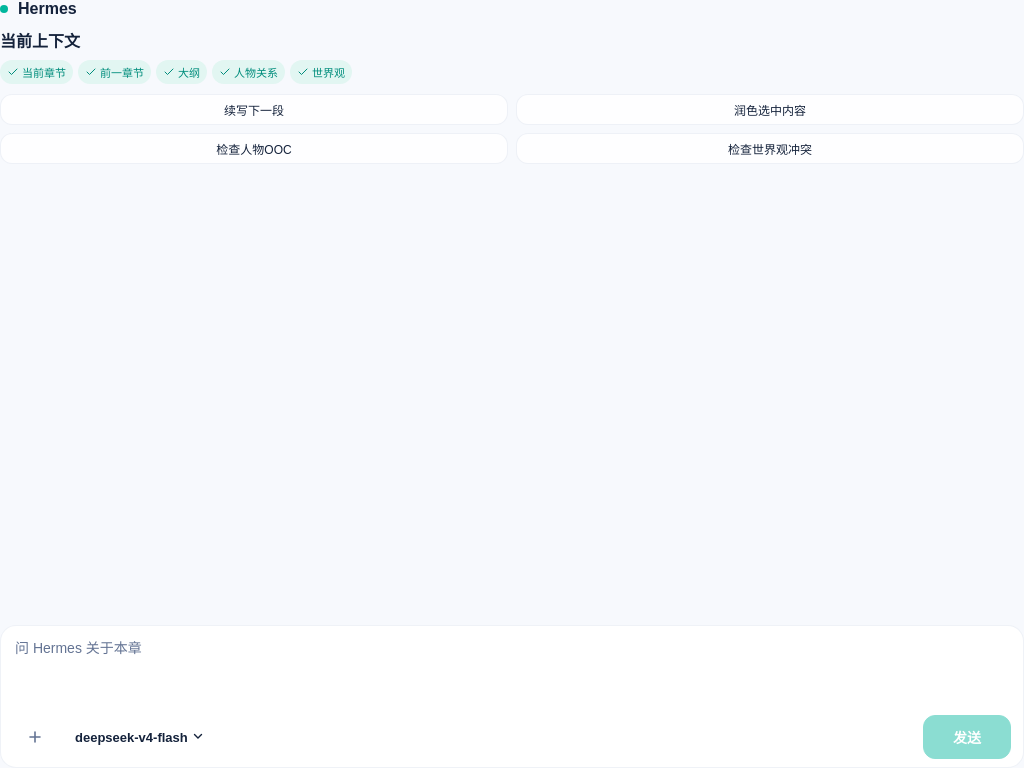
EchoChat › shows thinking tokens before the visible answer
Type "hi" into the text box named "给 Hermes 的消息".
click(512, 670); type("hi")  # box [13,636,1011,703]
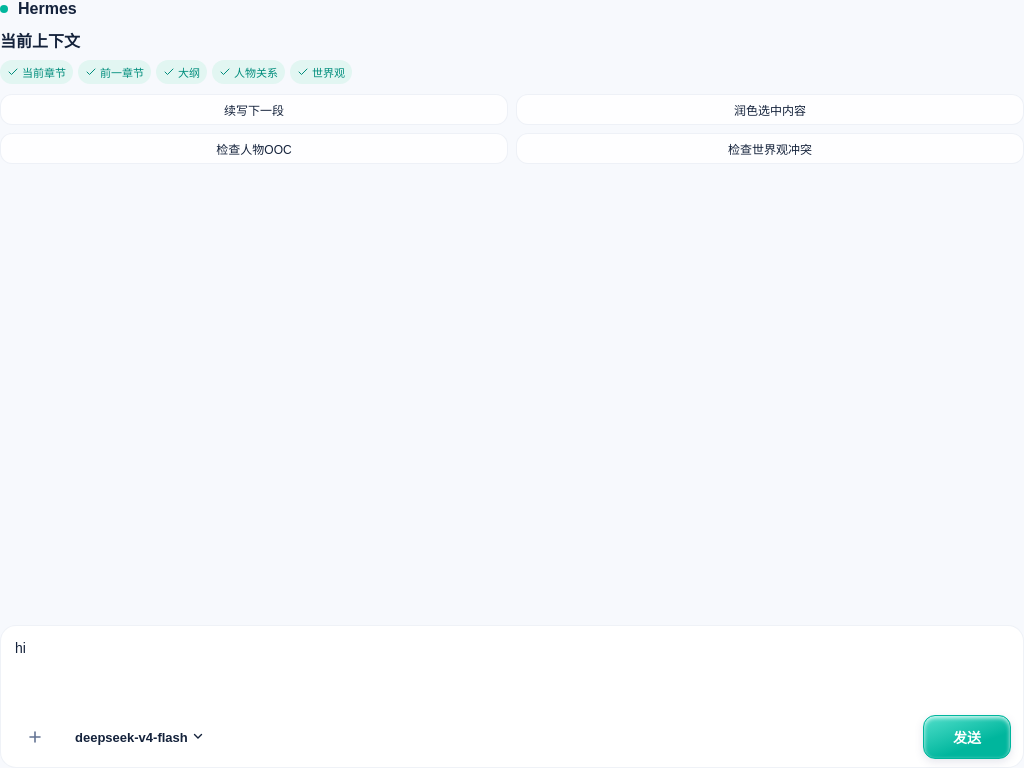
Click the button "发送".
click(967, 737)  # box [923,715,1011,759]
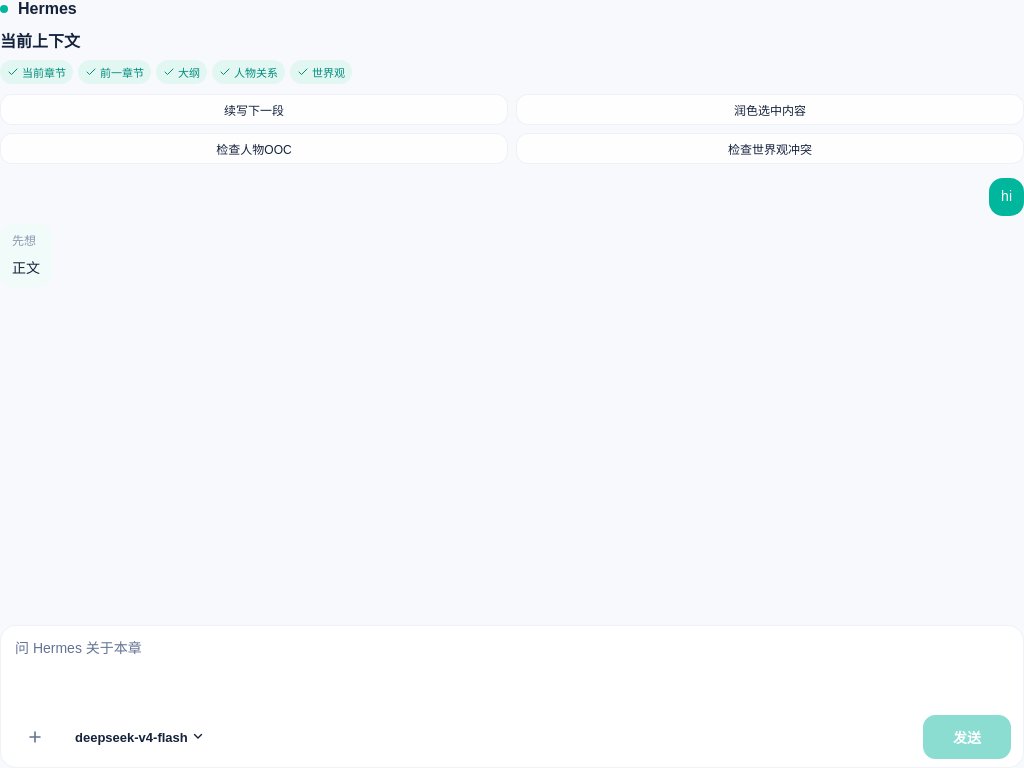
Check: the element showing "hi 先想 正文" is shown, box [0,178,1023,287]
